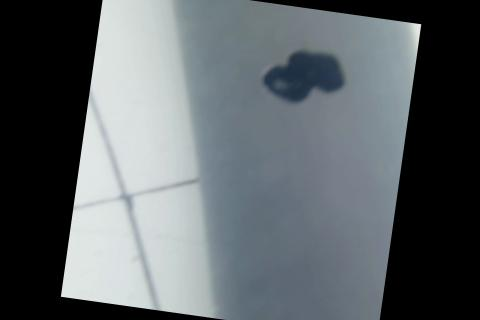kebocoran: (255, 44, 348, 111)
